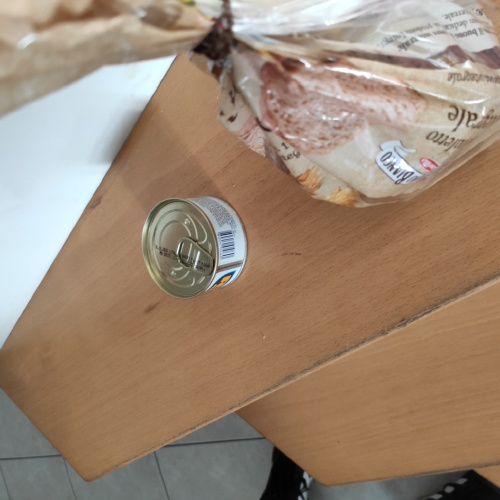tonno: (137, 191, 250, 302)
